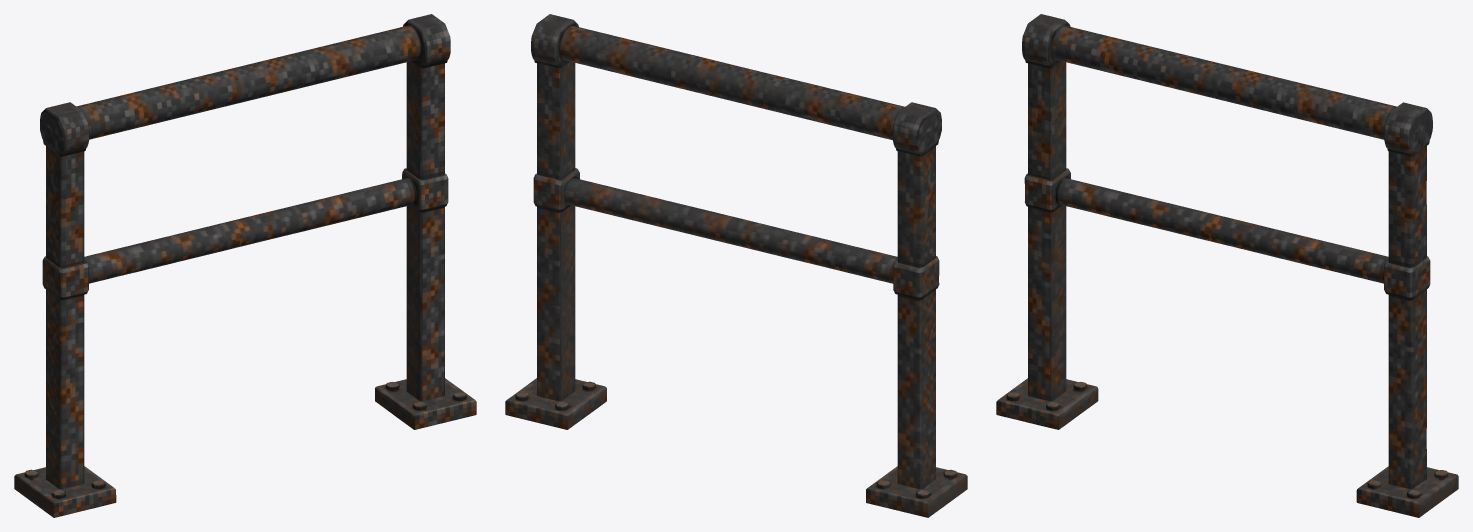
Rendered from Meshy_AI_model.glb.
3 views of the same model, side by side, from view 1: azimuth 30°, elevation 25°; view 2: azimuth 150°, elevation 25°; view 3: azimuth 330°, elevation 25° (orthographic).
Size of the model in its own units: 1.9 by 1.66 by 0.3089.
Materials: 1 (1 with a texture image).
